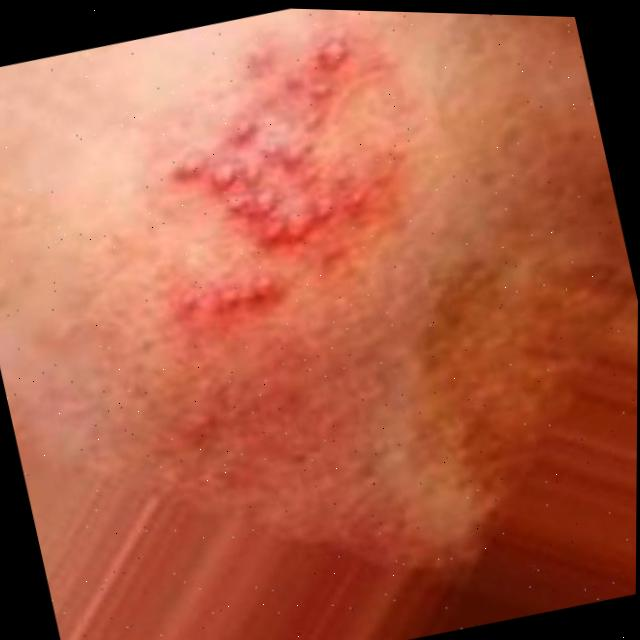Shingles: (135, 9, 453, 340)
